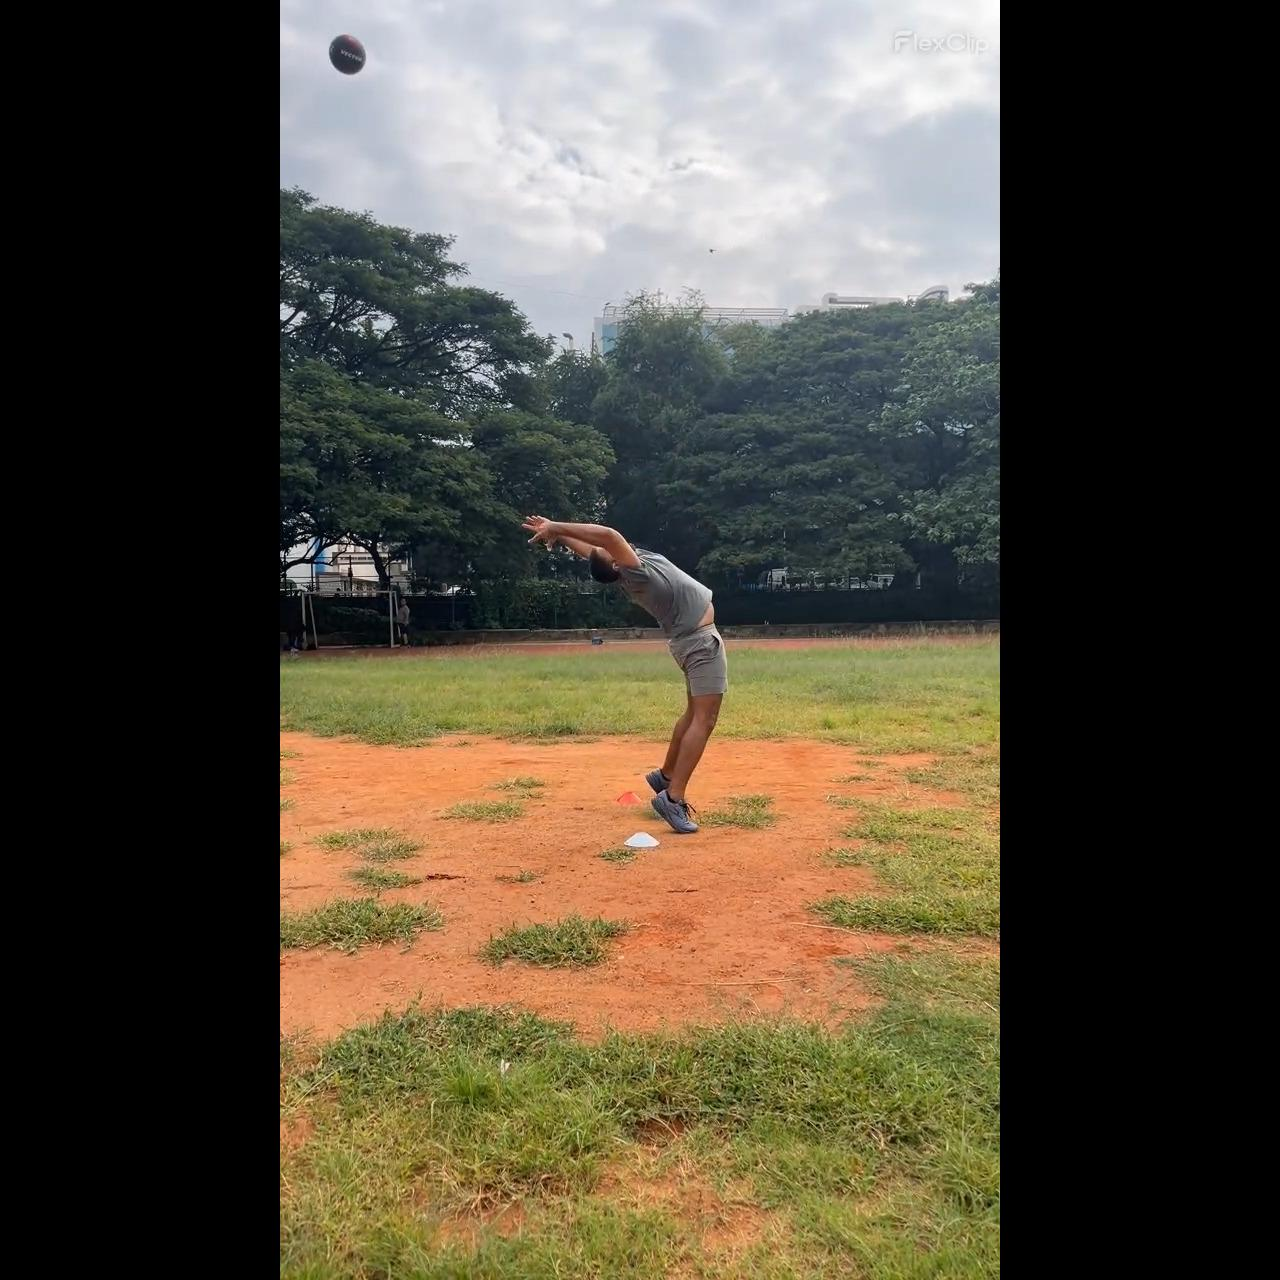Athelete: (517, 508, 727, 840)
Medicine Ball: (328, 34, 366, 75)
